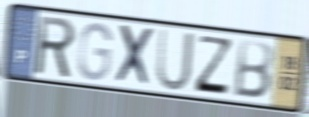B: (231, 37, 276, 102)
G: (75, 20, 114, 83)
R: (35, 14, 78, 81)
U: (155, 27, 196, 94)
X: (113, 23, 156, 90)
Z: (192, 33, 234, 97)
